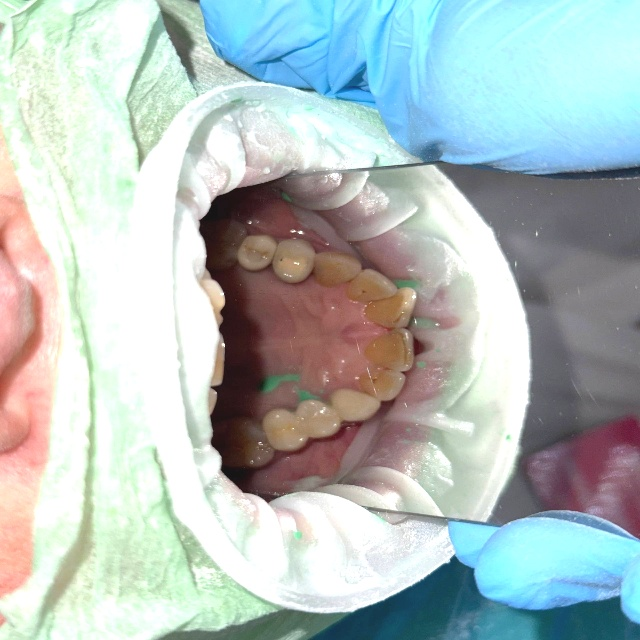clean_tooth: (475, 235, 524, 337), (451, 292, 484, 355), (194, 265, 224, 305), (344, 487, 392, 508)
plaque: (199, 0, 639, 166), (448, 446, 639, 633)
